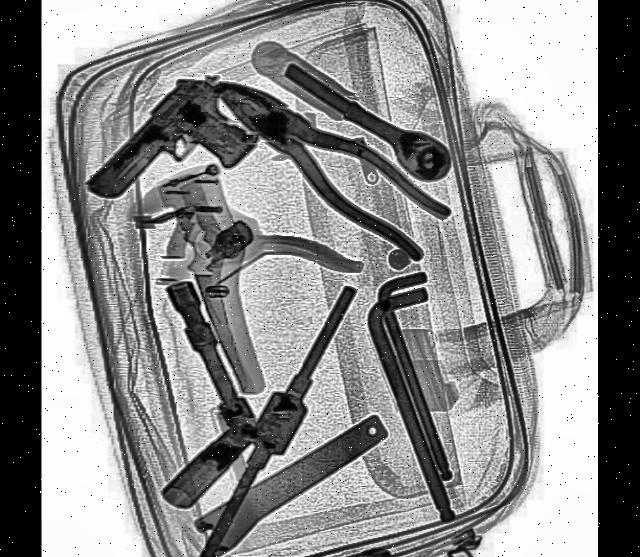Gun: (85, 50, 264, 272)
Pliers: (200, 44, 453, 276)
